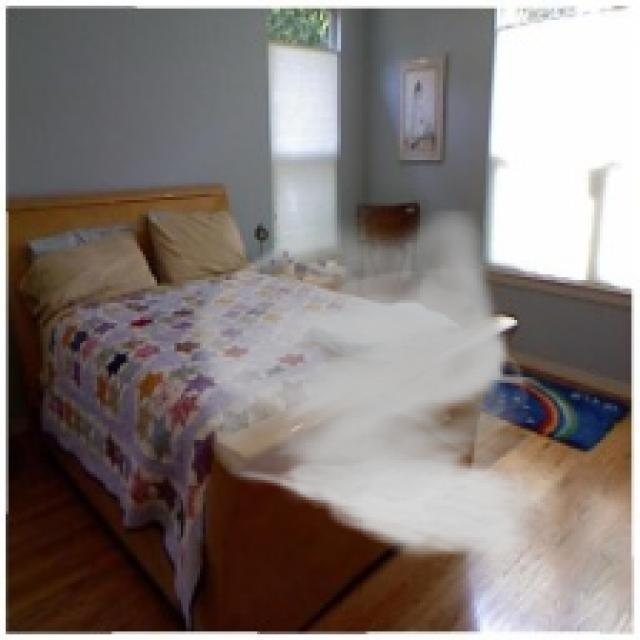Smoke: (179, 208, 552, 563)
